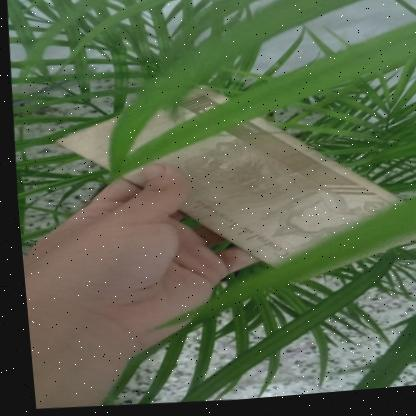five-back-vef: (42, 67, 416, 307)
